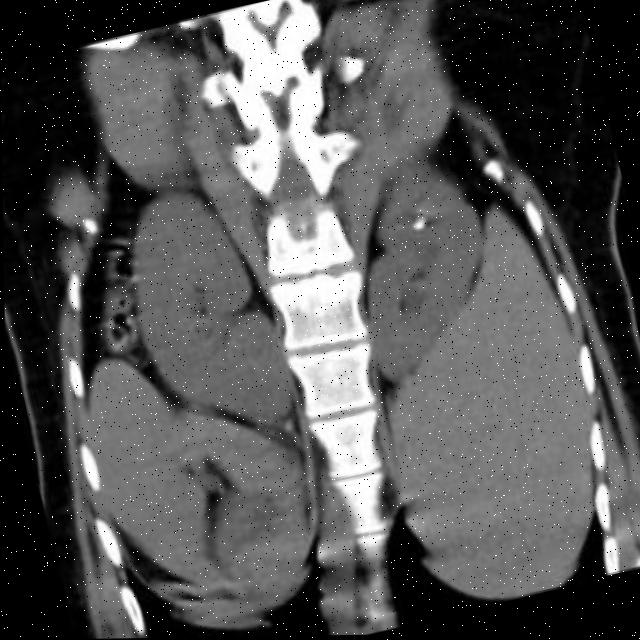Tas_Var: (411, 222, 423, 234)
